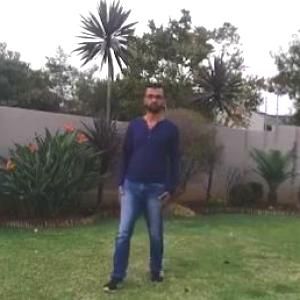follow: (123, 85, 176, 262)
